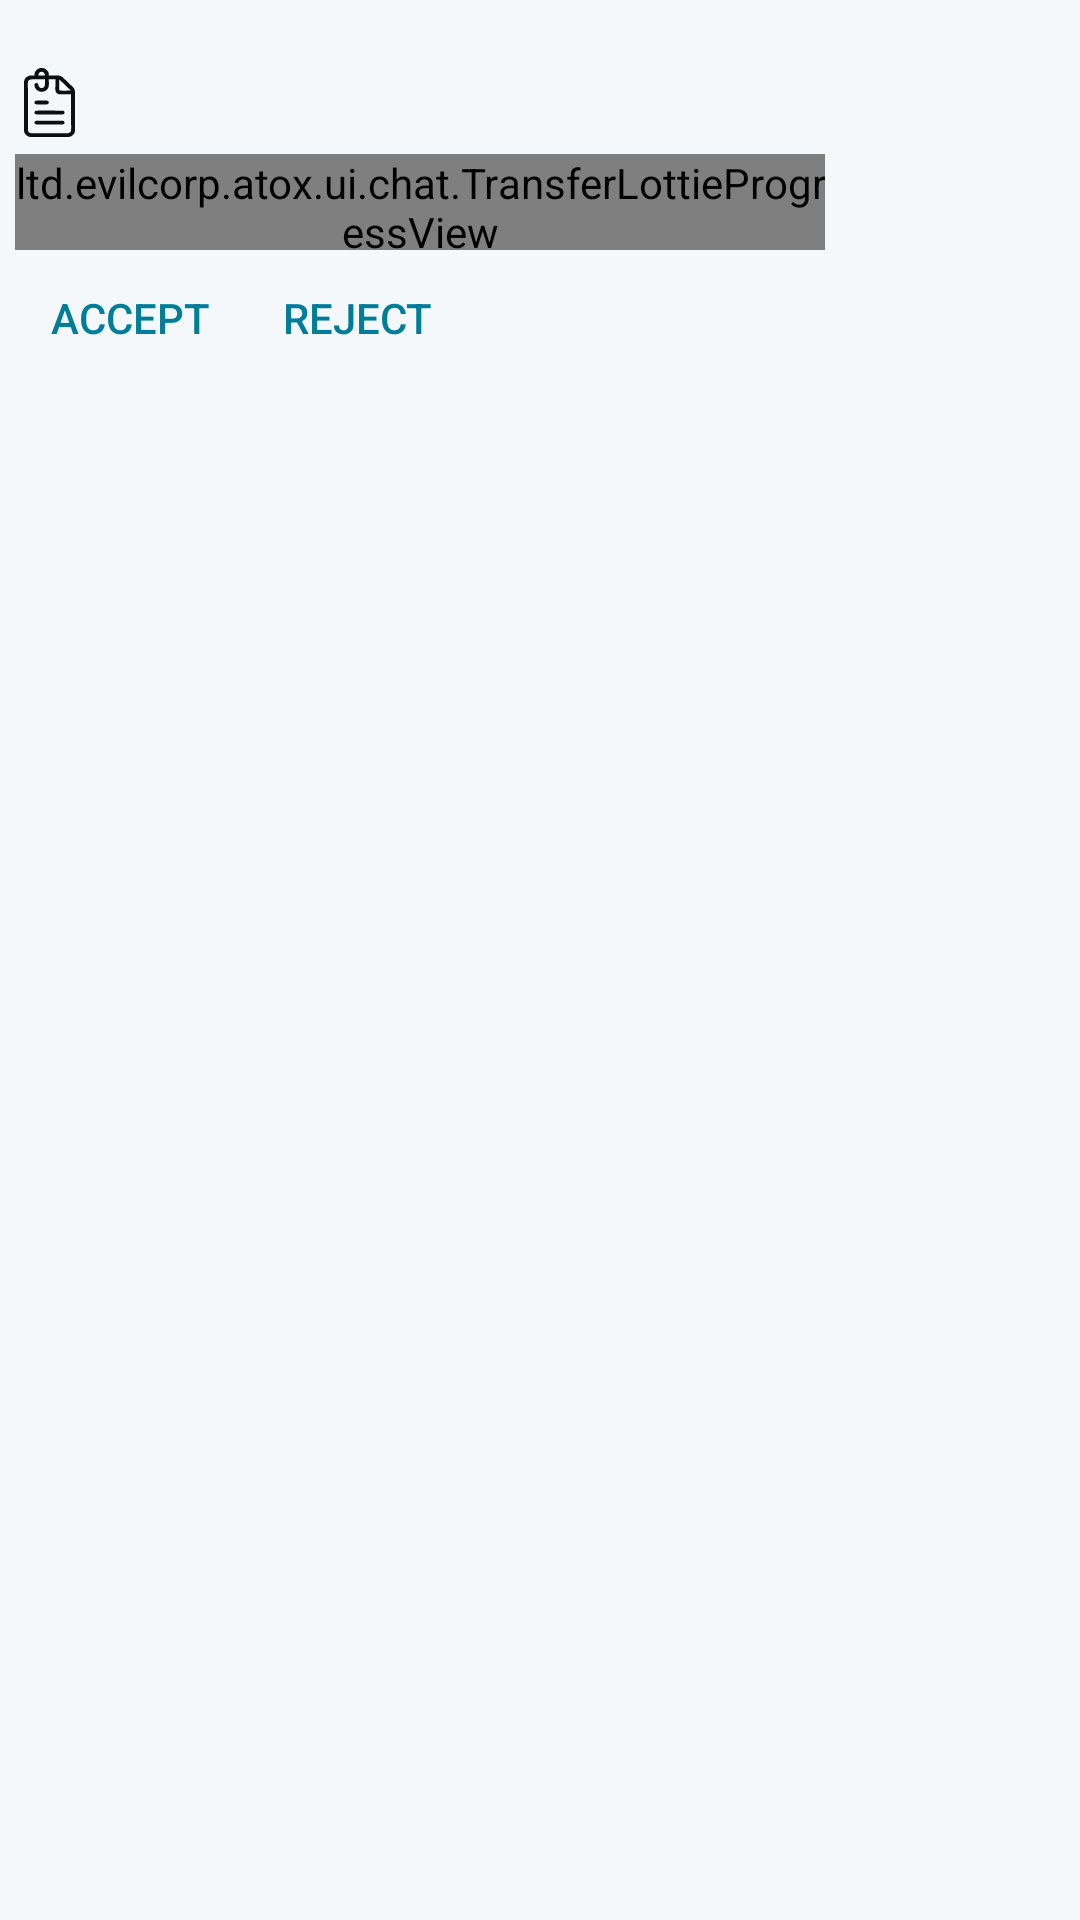

Icon bounding boxes for this 1080px x 1920px phone screenshot, format (x1=x1, y1=y1, x2=x2, y2=y2):
document thumb: (x1=24, y1=68, x2=75, y2=137)
